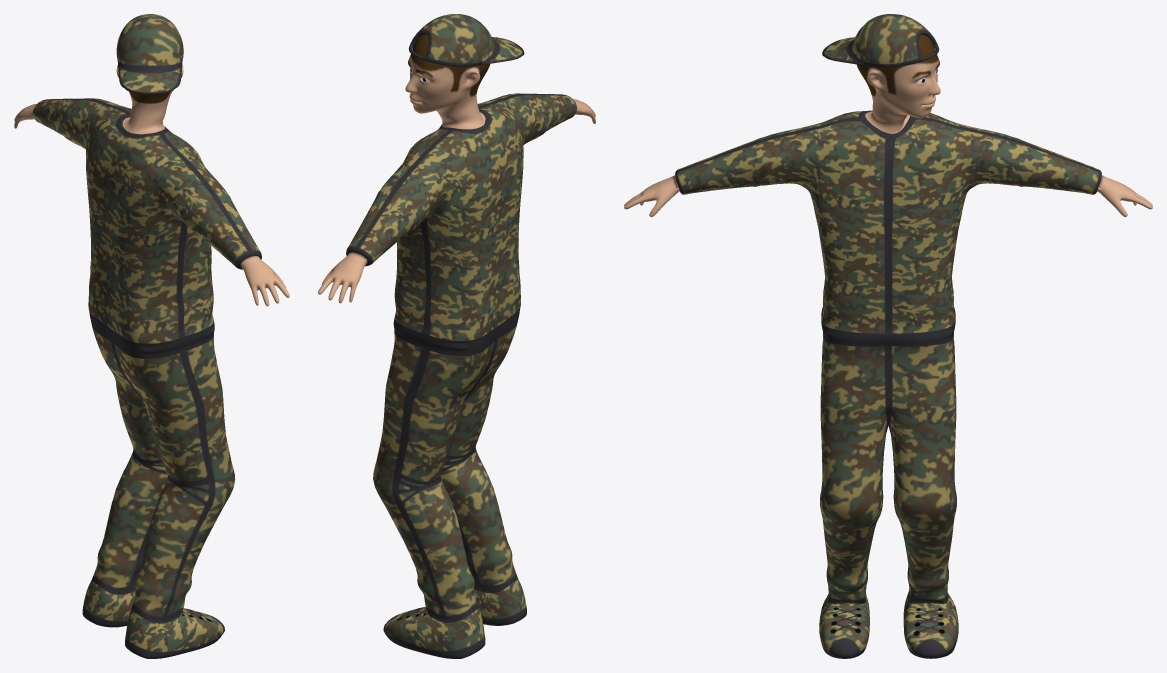
File: SkinCamuflaje_PoseDefecto.fbx
3 views of the same model, side by side, from view 1: azimuth 30°, elevation 25°; view 2: azimuth 150°, elevation 25°; view 3: azimuth 270°, elevation 25° (orthographic). The views are drawn at different scales.
Visible parts, largest first — view 1: Cuerpo completo smooth.003; view 2: Cuerpo completo smooth.003; view 3: Cuerpo completo smooth.003.
Boxes of the visible parts, x1=… form: Cuerpo completo smooth.003: x1=14, y1=14, x2=289, y2=658; Cuerpo completo smooth.003: x1=318, y1=14, x2=595, y2=658; Cuerpo completo smooth.003: x1=624, y1=14, x2=1152, y2=658.
Bounding box in the file's own units: 30.61 × 167 × 129.
1 material, 1 textured.
